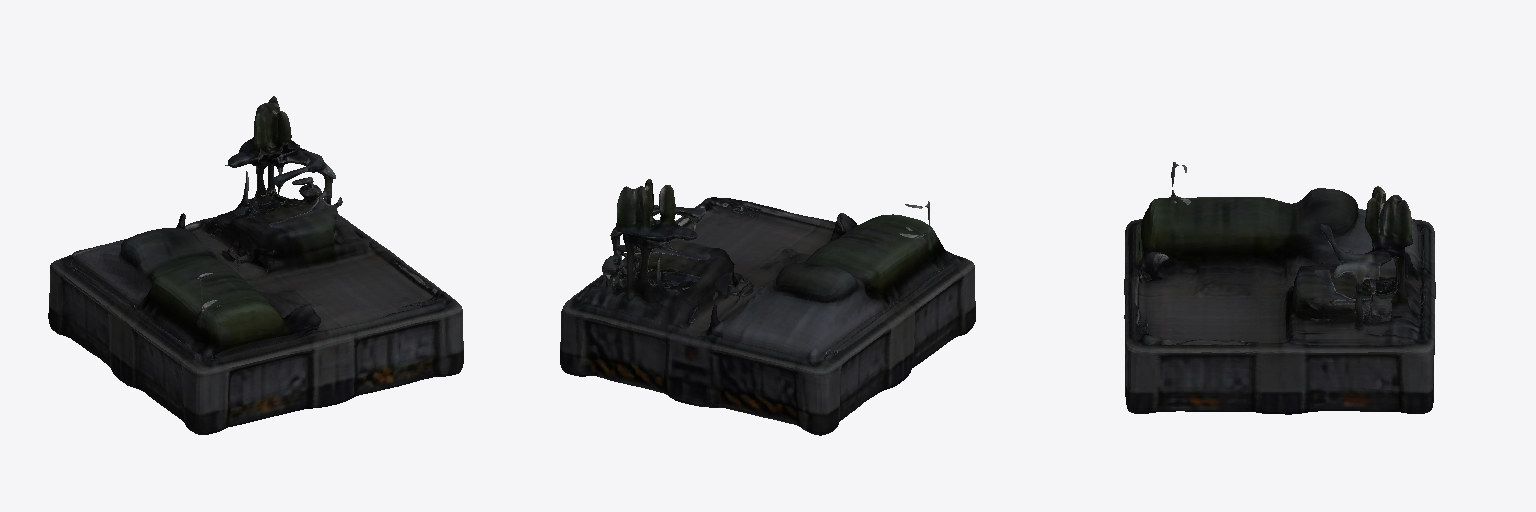
3 renders of one model, left to right at view 1: azimuth 30°, elevation 25°; view 2: azimuth 150°, elevation 25°; view 3: azimuth 270°, elevation 25°, orthographic.
Parts seen in each view (by area): view 1: mesh; view 2: mesh; view 3: mesh.
Boxes of the visible parts, x1=… form: mesh: x1=48, y1=96, x2=463, y2=434; mesh: x1=560, y1=179, x2=975, y2=435; mesh: x1=1124, y1=162, x2=1435, y2=414.
Size of the model in its own units: 0.9995 by 0.668 by 0.9909.
Materials: 1 (1 with a texture image).